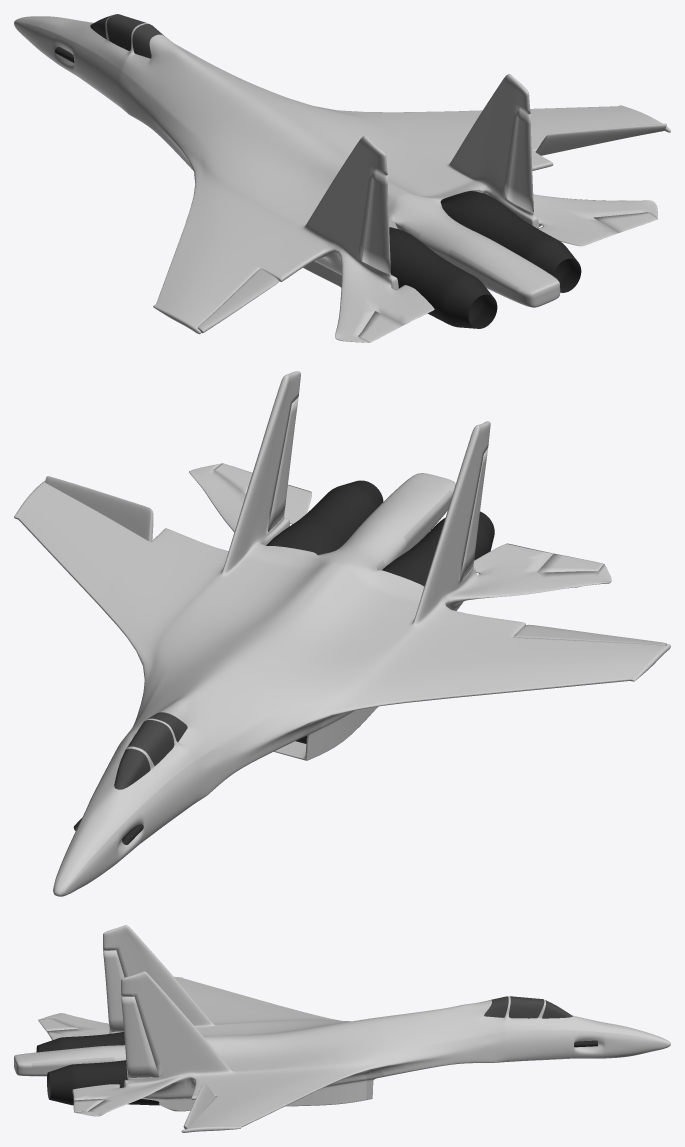
Rendered from fighter_plane.fbx.
The picture shows the model from 3 angles, top to bottom: view 1: azimuth 30°, elevation 25°; view 2: azimuth 150°, elevation 25°; view 3: azimuth 270°, elevation 25°; orthographic projection. The views are drawn at different scales.
Parts seen in each view (by area): view 1: Plane, Engine, Rudder.L, Rudder.R, Aileron.R, Cockpit, Aileron.L, Elevator.R, Elevator.L; view 2: Plane, Engine, Cockpit, Aileron.R, Aileron.L, Rudder.R, Rudder.L, Elevator.L; view 3: Plane, Engine, Rudder.R, Cockpit, Rudder.L, Aileron.R.
Part boxes in pixels (x1=…): Plane: x1=14, y1=15, x2=670, y2=342; Engine: x1=389, y1=190, x2=581, y2=328; Rudder.L: x1=362, y1=171, x2=390, y2=273; Rudder.R: x1=507, y1=109, x2=533, y2=212; Aileron.R: x1=536, y1=123, x2=666, y2=155; Cockpit: x1=90, y1=14, x2=163, y2=58; Aileron.L: x1=198, y1=268, x2=279, y2=333; Elevator.R: x1=593, y1=212, x2=657, y2=232; Elevator.L: x1=358, y1=311, x2=402, y2=342; Plane: x1=14, y1=371, x2=670, y2=896; Engine: x1=266, y1=480, x2=494, y2=586; Cockpit: x1=114, y1=712, x2=187, y2=789; Aileron.R: x1=45, y1=476, x2=153, y2=541; Aileron.L: x1=513, y1=624, x2=667, y2=645; Rudder.R: x1=268, y1=397, x2=298, y2=531; Rudder.L: x1=459, y1=447, x2=488, y2=583; Elevator.L: x1=537, y1=553, x2=603, y2=572; Plane: x1=14, y1=925, x2=670, y2=1132; Engine: x1=36, y1=1032, x2=159, y2=1105; Rudder.R: x1=121, y1=996, x2=159, y2=1077; Cockpit: x1=484, y1=996, x2=572, y2=1018; Rudder.L: x1=103, y1=950, x2=124, y2=1031; Aileron.R: x1=183, y1=1083, x2=215, y2=1129.
Size of the model in its own units: 931 by 341 by 1350.
